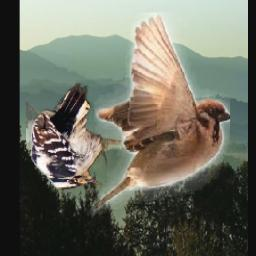Sparrow: (87, 14, 231, 216)
Woodpecker: (27, 84, 122, 191)
